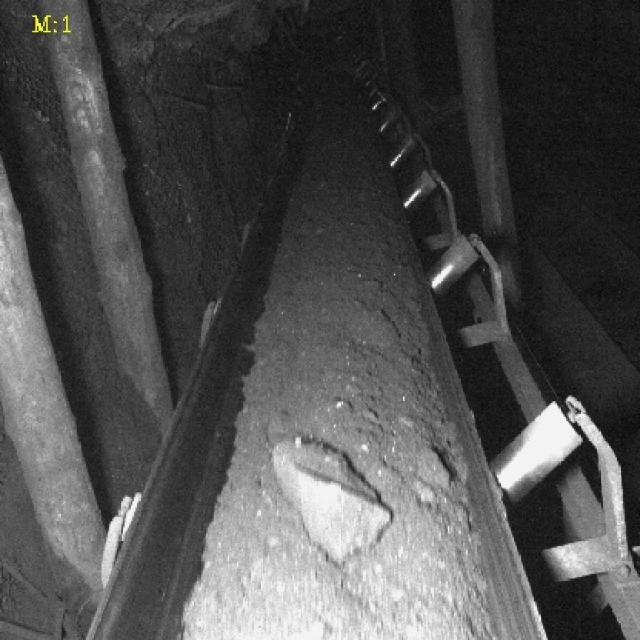large_sized_coal: (264, 440, 390, 555)
